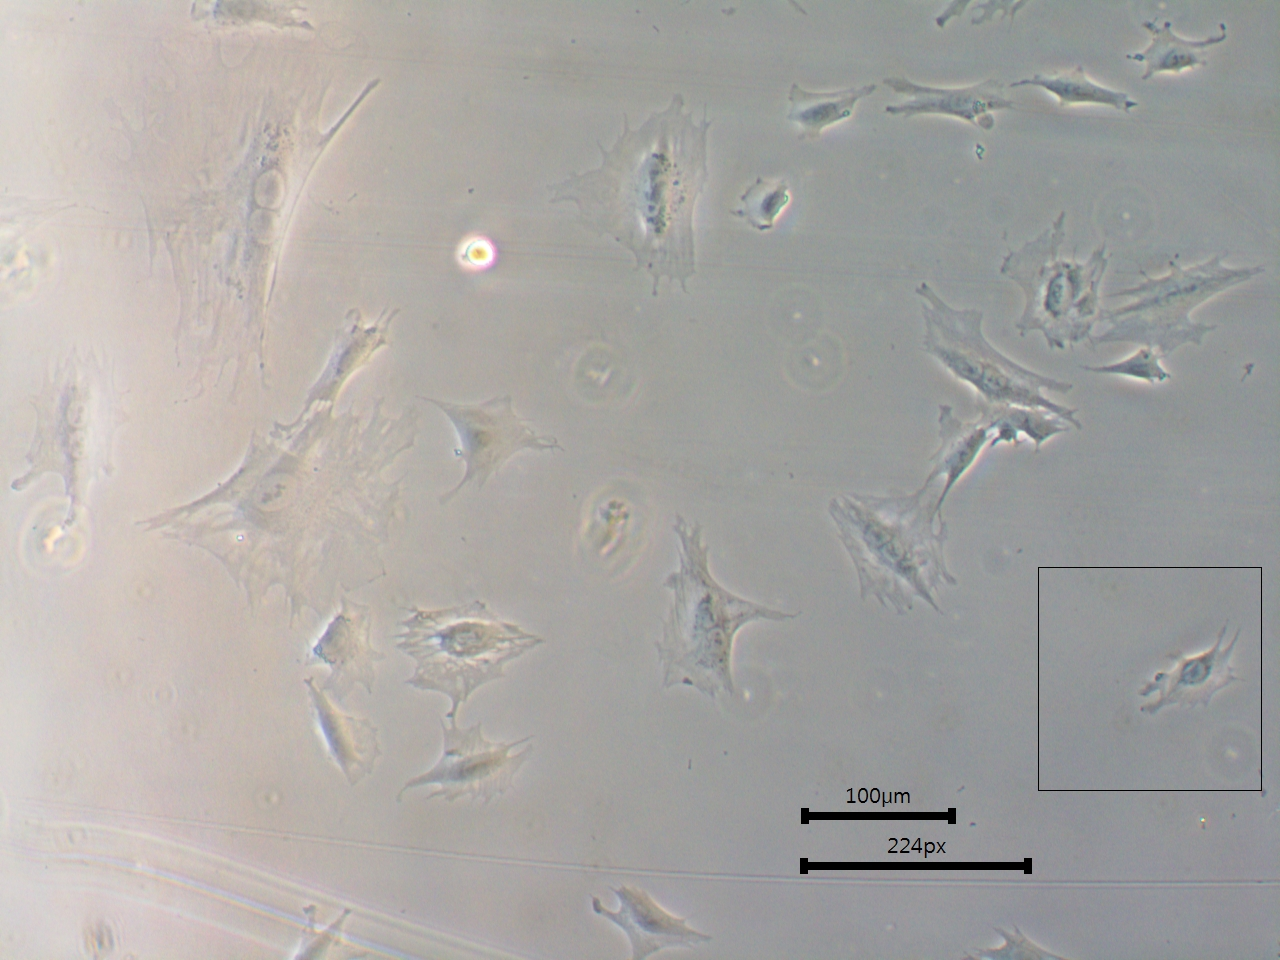dividing: (898, 270, 1105, 436), (653, 499, 802, 715), (805, 479, 979, 628), (10, 349, 139, 526)
medium-polygonal: (389, 713, 546, 831), (1133, 608, 1253, 719), (876, 63, 1017, 145)
medium-spread: (531, 79, 722, 304), (385, 589, 554, 711), (996, 200, 1115, 350)
small-polygonal: (1010, 53, 1144, 128), (769, 74, 880, 147)
small-spread: (729, 166, 795, 242)
